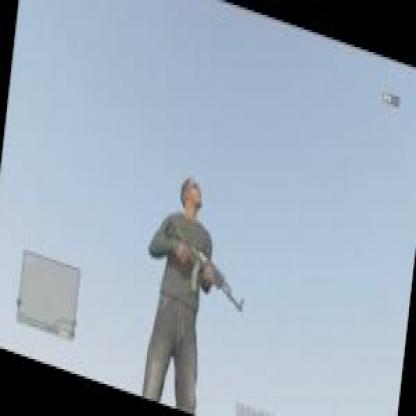rifle: (161, 218, 252, 324)
